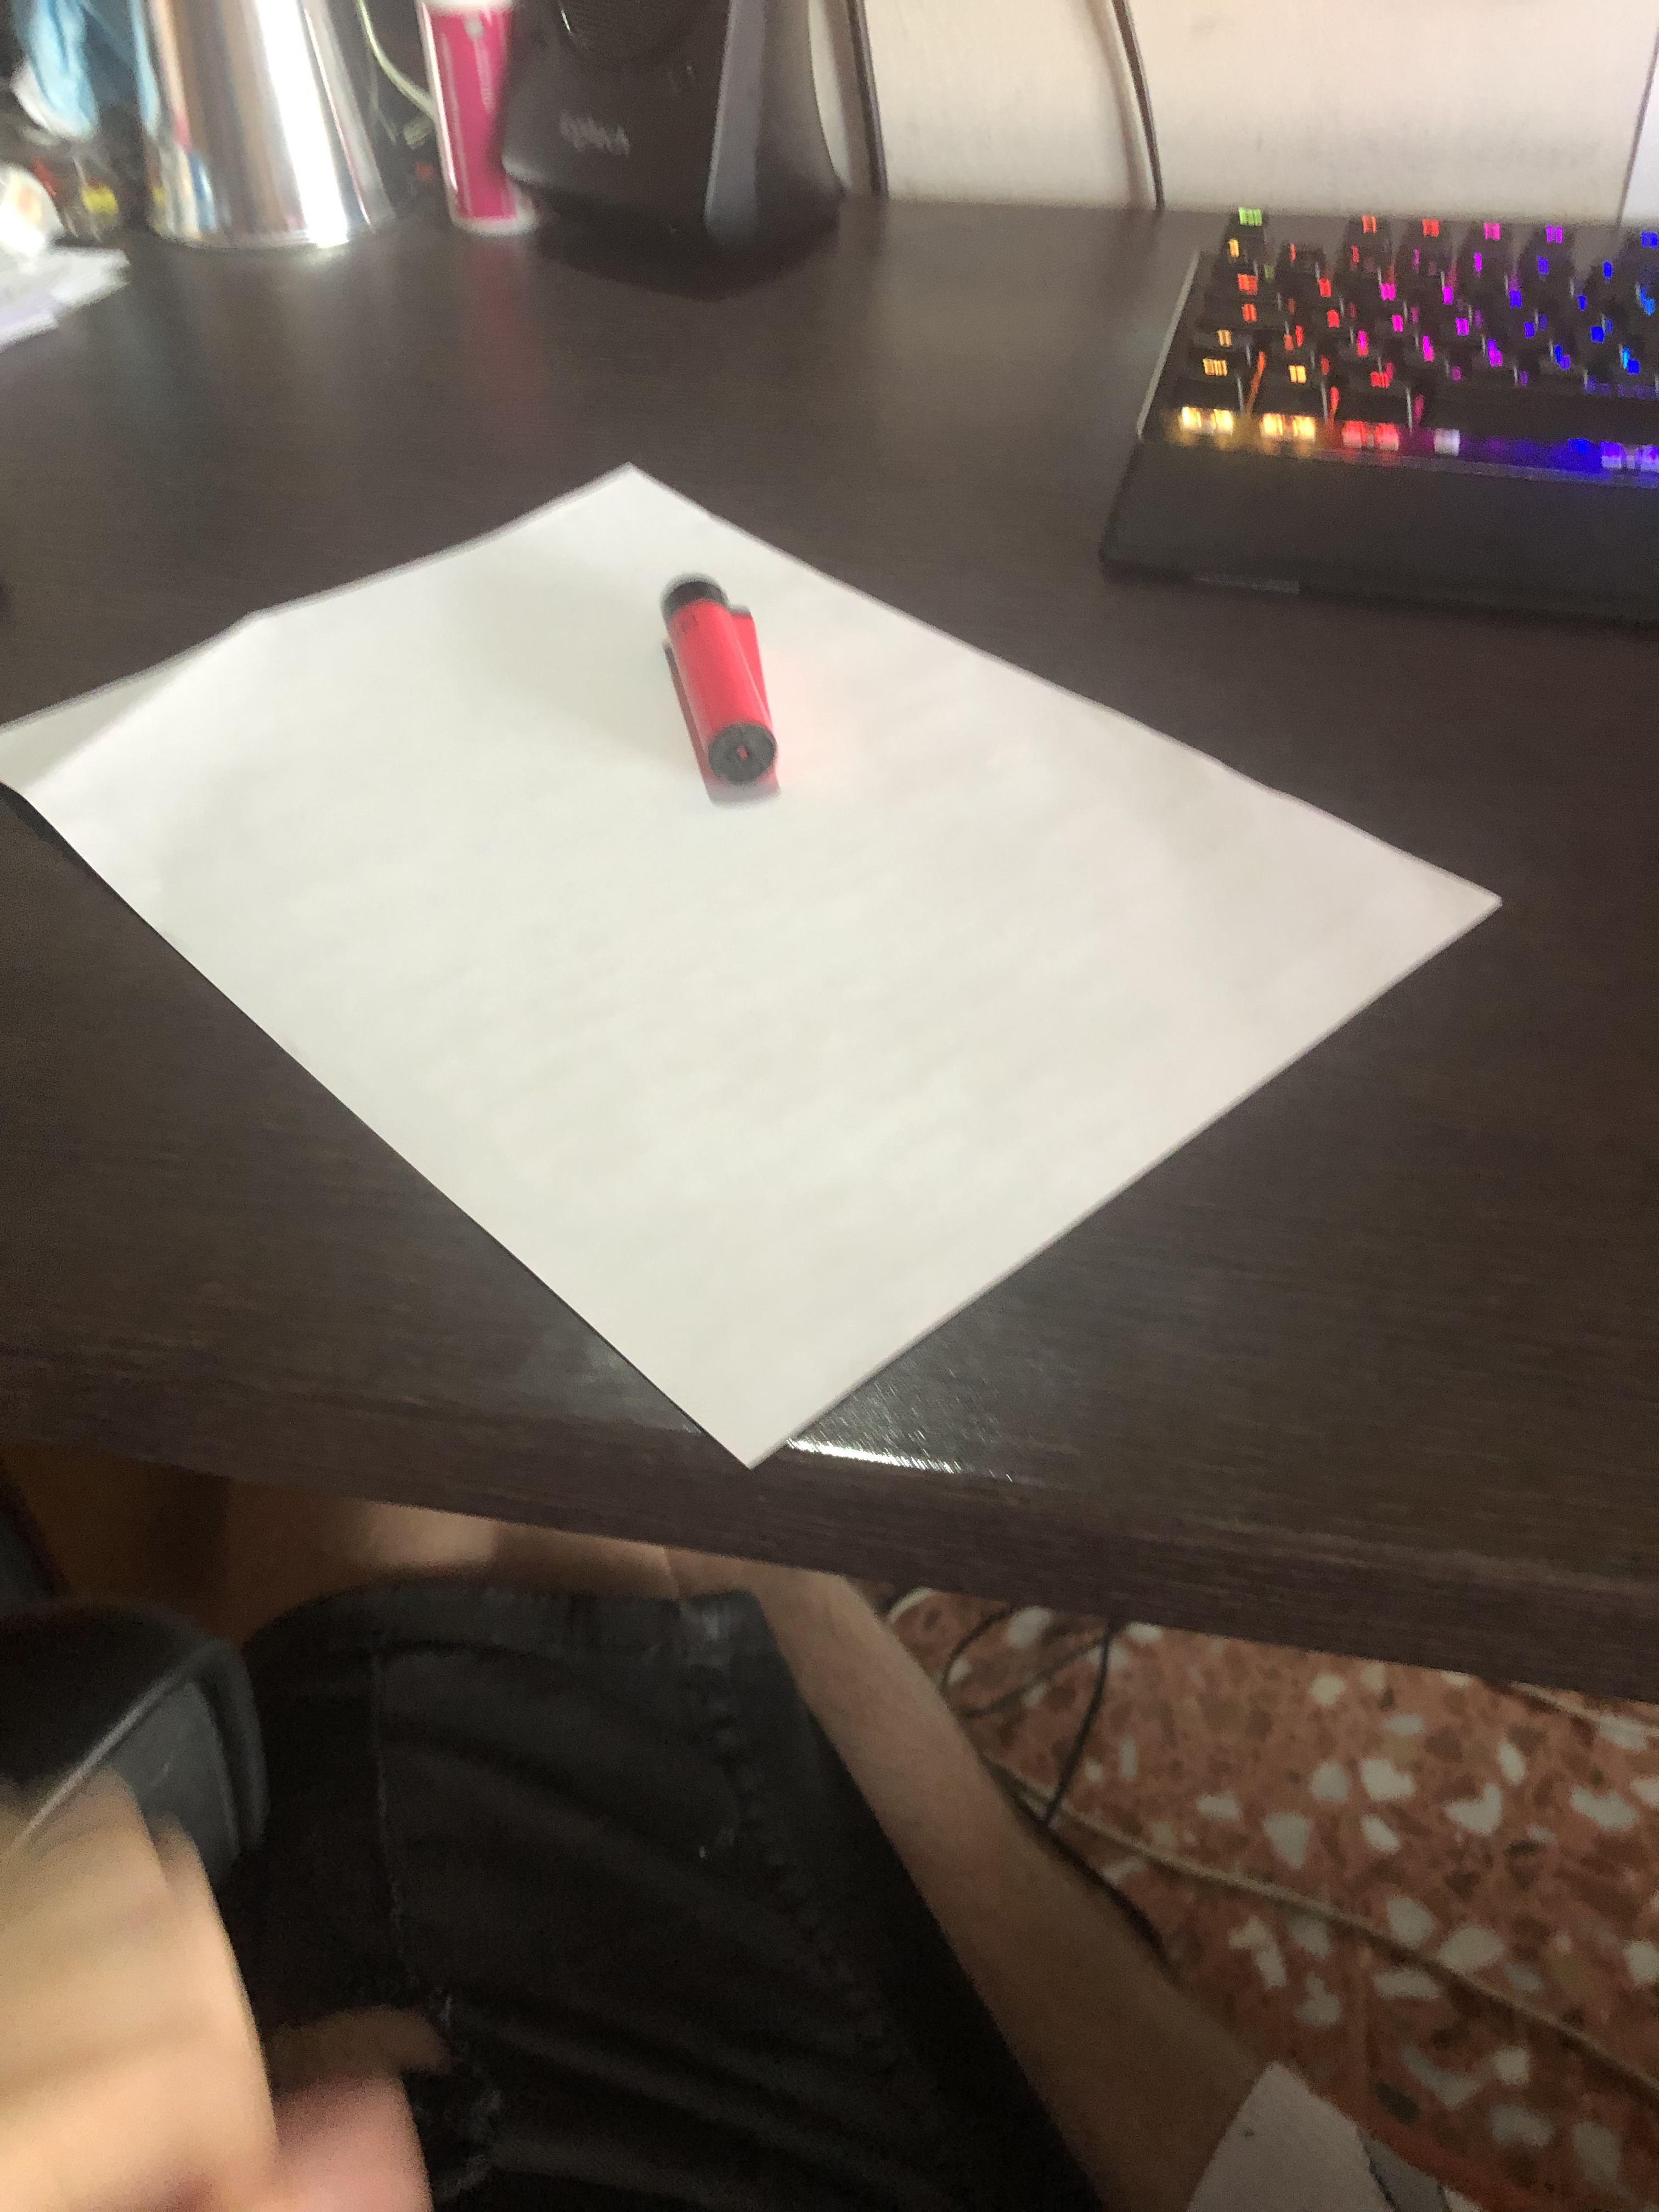Mechero: (634, 561, 795, 798)
